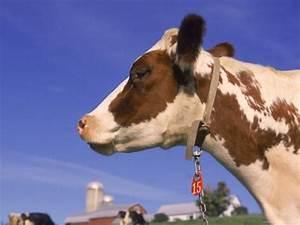cow: (76, 12, 299, 224)
